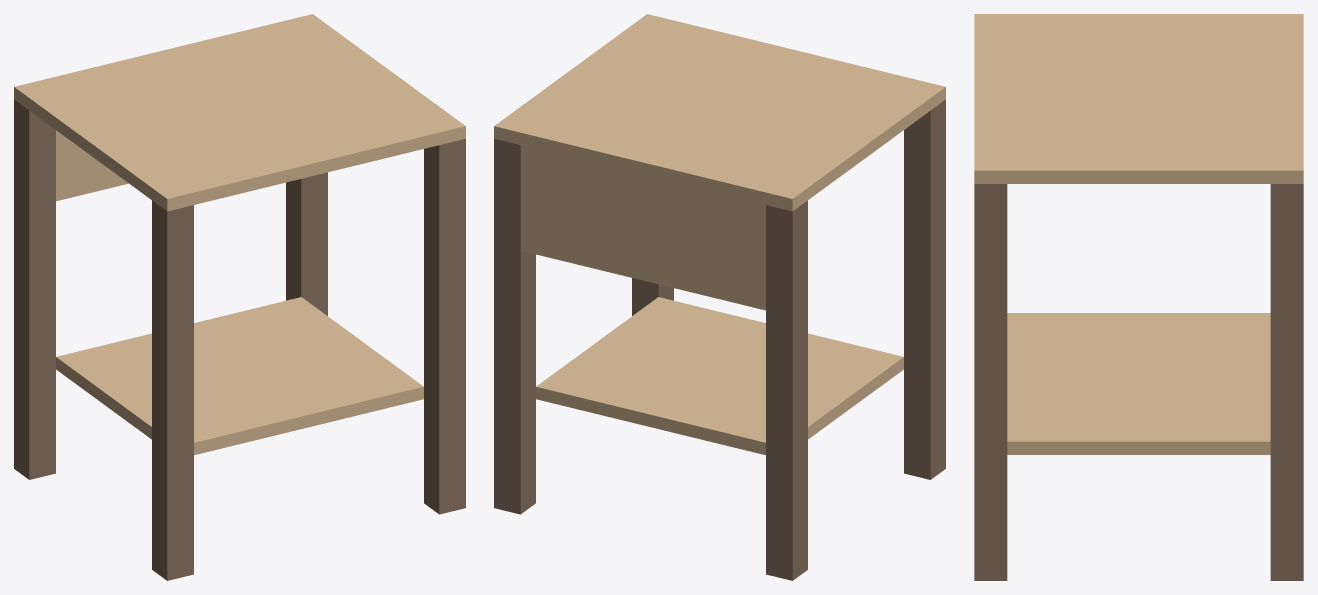
Rendered from mesilla-ejemplo.glb.
3 views of the same model, side by side, from view 1: azimuth 30°, elevation 25°; view 2: azimuth 150°, elevation 25°; view 3: azimuth 270°, elevation 25° (orthographic). The views are drawn at different scales.
Parts seen in each view (by area): view 1: Mesilla; view 2: Mesilla; view 3: Mesilla.
Boxes of the visible parts, <box> form: Mesilla: <box>14,14,465,580</box>; Mesilla: <box>494,14,945,580</box>; Mesilla: <box>974,14,1303,580</box>.
Size of the model in its own units: 0.45 by 0.55 by 0.4.
